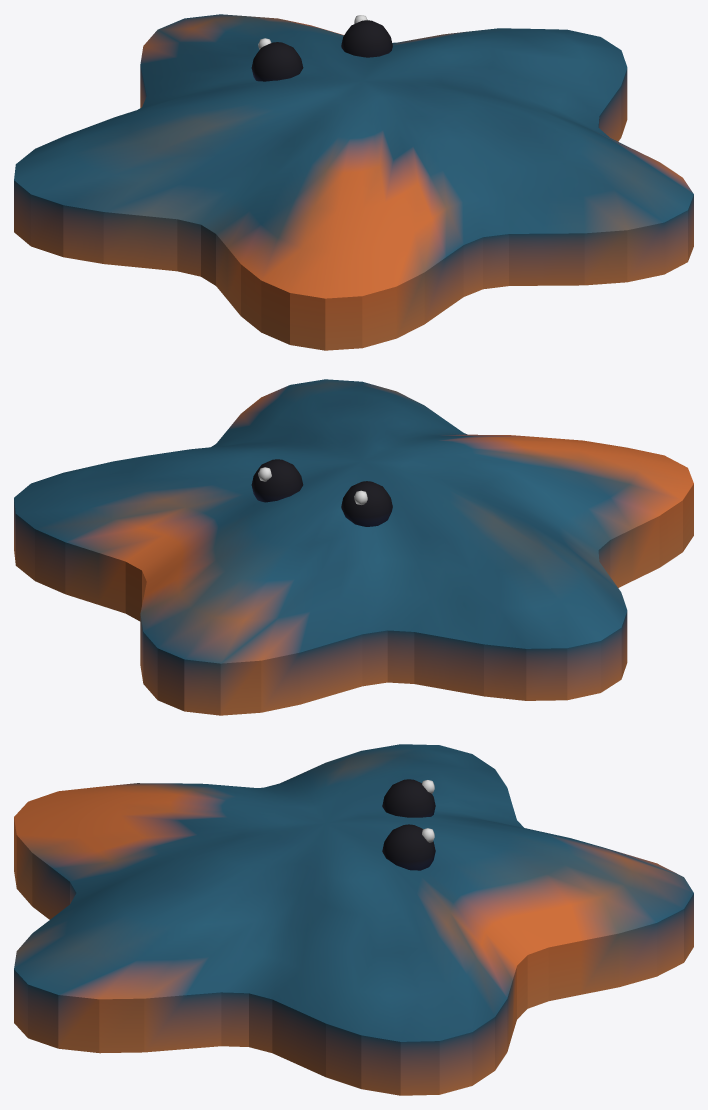
File: Hitode.fbx
The picture shows the model from 3 angles, top to bottom: view 1: azimuth 30°, elevation 25°; view 2: azimuth 150°, elevation 25°; view 3: azimuth 270°, elevation 25°; orthographic projection. The views are drawn at different scales.
Parts seen in each view (by area): view 1: Hitode; view 2: Hitode; view 3: Hitode.
Part boxes in pixels (bbox=[...]): Hitode: bbox=[14, 14, 693, 350]; Hitode: bbox=[14, 379, 693, 715]; Hitode: bbox=[14, 744, 693, 1095].
Size of the model in its own units: 1.19 by 0.2651 by 1.15.
